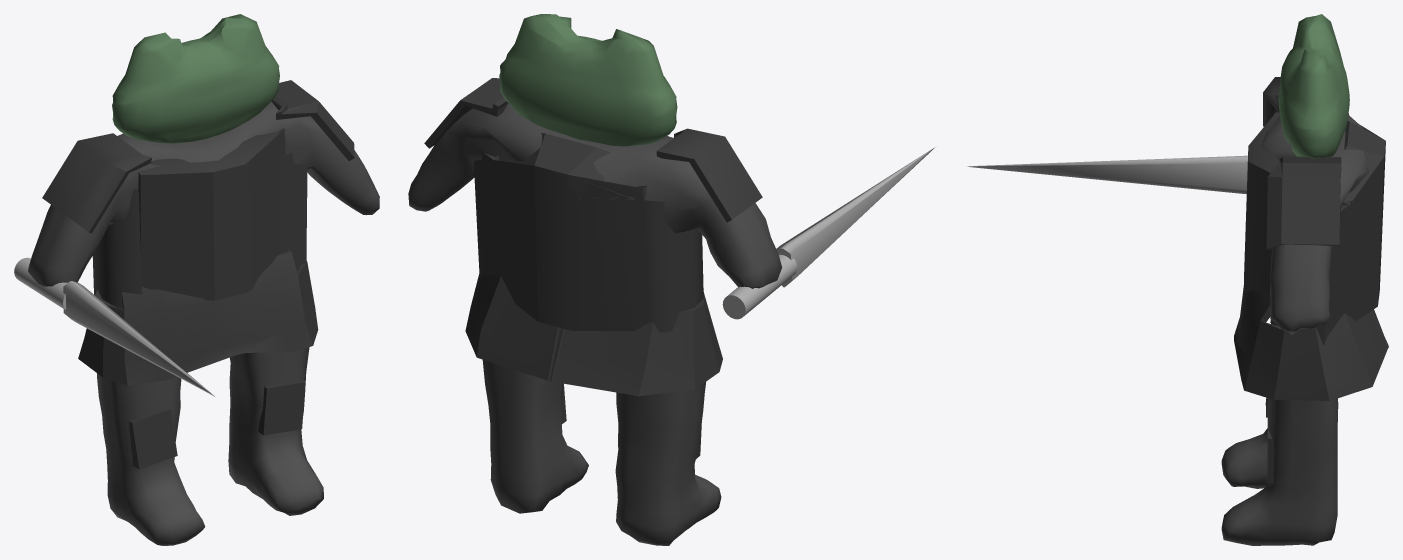
Rendered from PlayerNew.fbx.
The picture shows the model from 3 angles, left to right: view 1: azimuth 30°, elevation 25°; view 2: azimuth 150°, elevation 25°; view 3: azimuth 270°, elevation 25°; orthographic projection. The views are drawn at different scales.
Visible parts, largest first — view 1: pCube11, pCube12, pCube4, pSphere1, pasted__pCube12, pCube2, pCube10, pCube3, pCube8, pCube9, pCylinder1; view 2: pCube11, pasted__pCube12, pSphere1, pCube4, pasted__pCube13, pasted__pCube14, pCube2, pCube10, pCube3, pCylinder1; view 3: pCube11, pCube4, pSphere1, pCube3, pCube10, pasted__pCube12, pasted__pCube13, pCube12, pCube2.
Boxes of the visible parts, <box> form: pCube11: <box>28,101,379,545</box>; pCube12: <box>138,128,285,300</box>; pCube4: <box>78,250,318,385</box>; pSphere1: <box>112,14,279,143</box>; pasted__pCube12: <box>92,152,307,309</box>; pCube2: <box>42,133,151,233</box>; pCube10: <box>63,281,214,396</box>; pCube3: <box>271,80,354,160</box>; pCube8: <box>129,409,177,469</box>; pCube9: <box>258,380,305,435</box>; pCylinder1: <box>14,257,67,309</box>; pCube11: <box>408,103,782,545</box>; pasted__pCube12: <box>484,133,703,332</box>; pSphere1: <box>499,14,677,146</box>; pCube4: <box>465,274,722,396</box>; pasted__pCube13: <box>473,152,647,324</box>; pasted__pCube14: <box>489,160,693,332</box>; pCube2: <box>656,128,762,222</box>; pCube10: <box>776,146,936,287</box>; pCube3: <box>424,78,508,148</box>; pCylinder1: <box>722,254,797,319</box>; pCube11: <box>1221,104,1369,545</box>; pCube4: <box>1234,285,1388,400</box>; pSphere1: <box>1278,14,1349,159</box>; pCube3: <box>1266,156,1341,250</box>; pCube10: <box>967,155,1247,193</box>; pasted__pCube12: <box>1270,121,1385,325</box>; pasted__pCube13: <box>1281,202,1377,344</box>; pCube12: <box>1244,112,1279,293</box>; pCube2: <box>1263,77,1280,126</box>.
Size of the model in its own units: 2.79 by 3.74 by 3.02.
